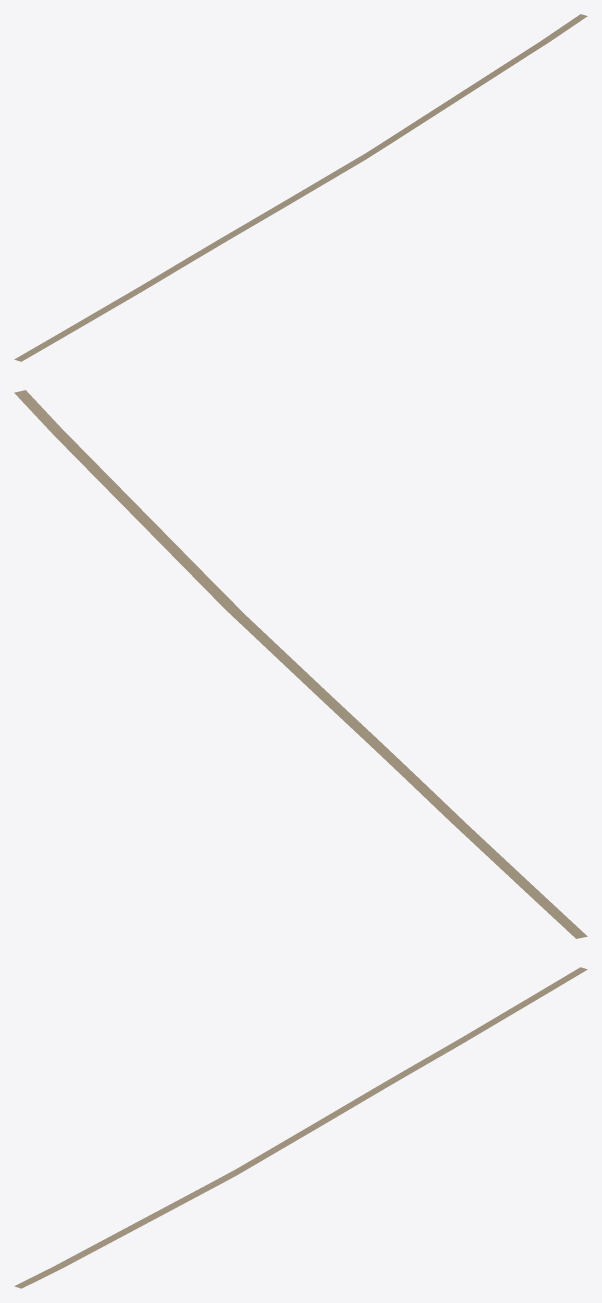
The model's file is farm_-8_-2_track.glb.
3 views of the same model, one above another, from view 1: azimuth 90°, elevation 25°; view 2: azimuth 150°, elevation 25°; view 3: azimuth 270°, elevation 25° (orthographic). The views are drawn at different scales.
Parts seen in each view (by area): view 1: geometry_0; view 2: geometry_0; view 3: geometry_0.
Part boxes in pixels (x1=…): geometry_0: x1=14, y1=14, x2=587, y2=361; geometry_0: x1=14, y1=390, x2=587, y2=938; geometry_0: x1=14, y1=967, x2=587, y2=1288.
Size of the model in its own units: 283 by 5.57 by 205.
